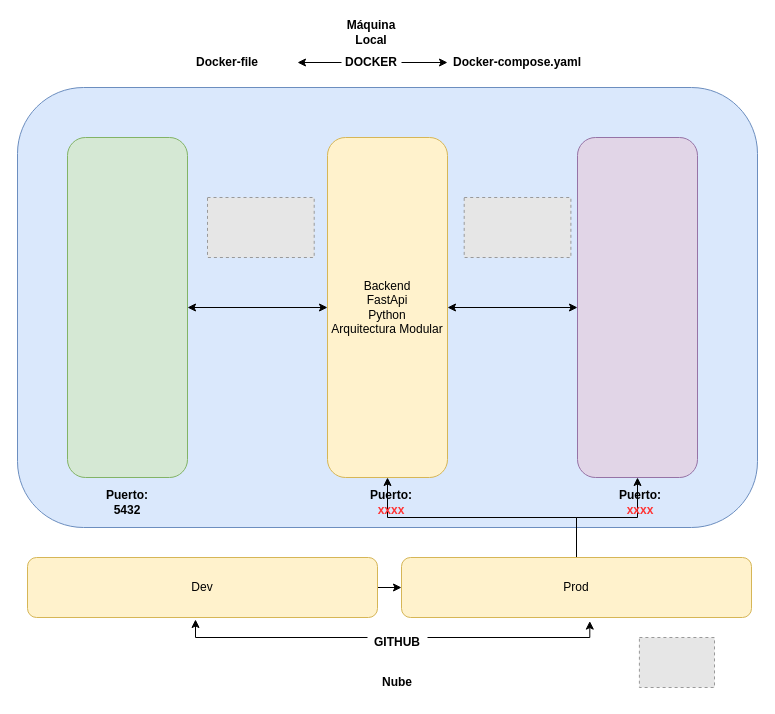
Some shapes in this 775 by 714 pixel diagram are drawn without their labels. Grey dashed boxes stand in for pictures. The centre of each missing label's shape, as x and y in pixels:
Frontend React + vite.js Arquitectura: point 637,307
Posgresql Entidades Users Category: point 127,307
